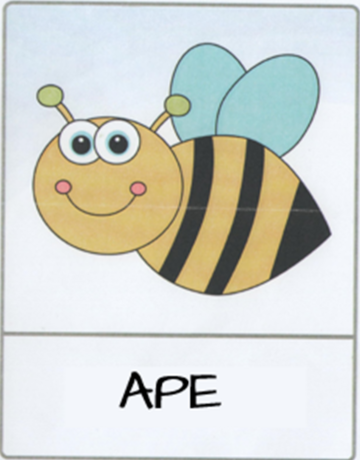ape: (7, 19, 339, 434)
